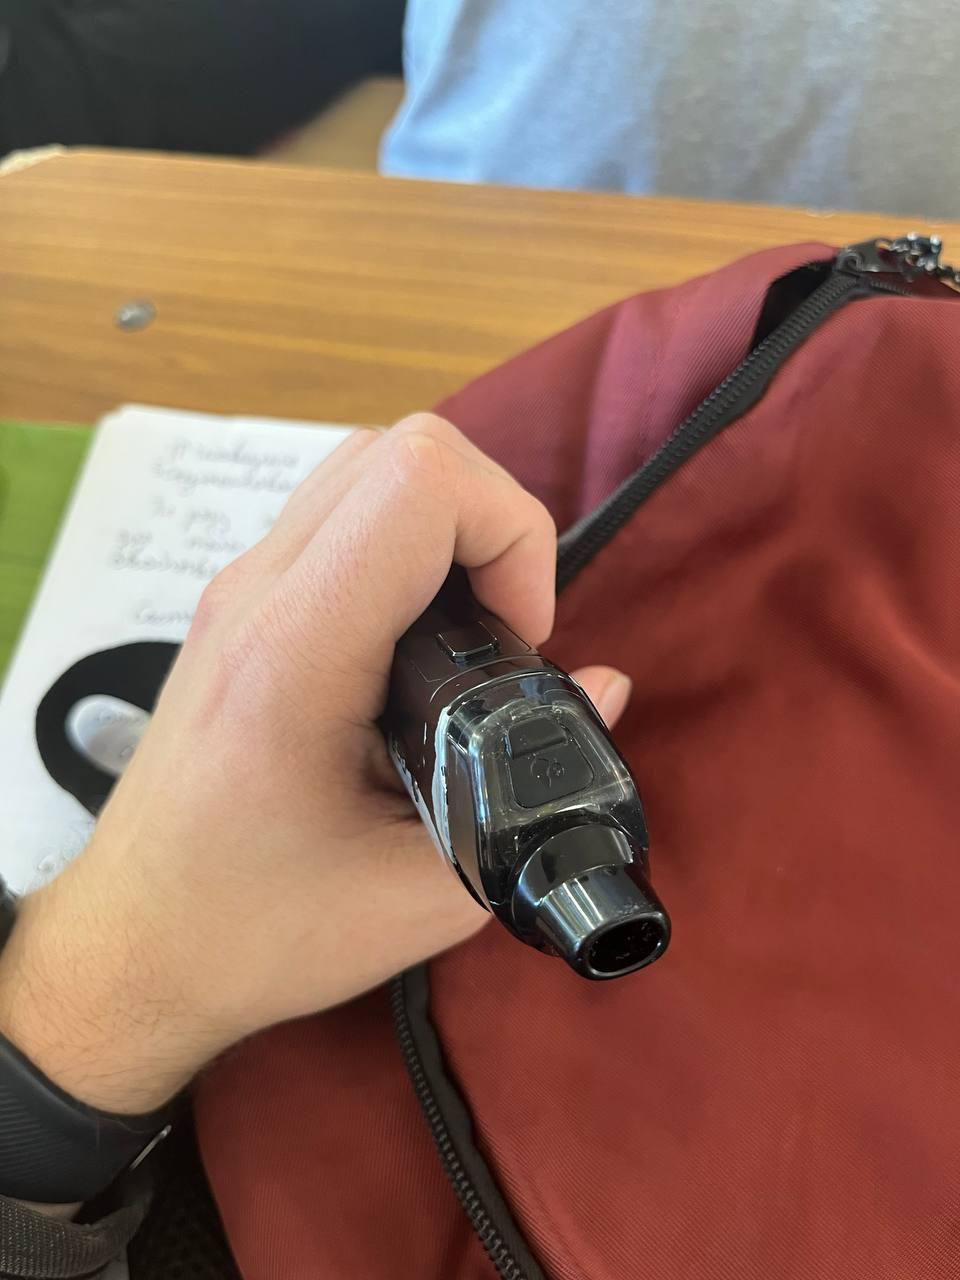Vape: (381, 567, 669, 979)
